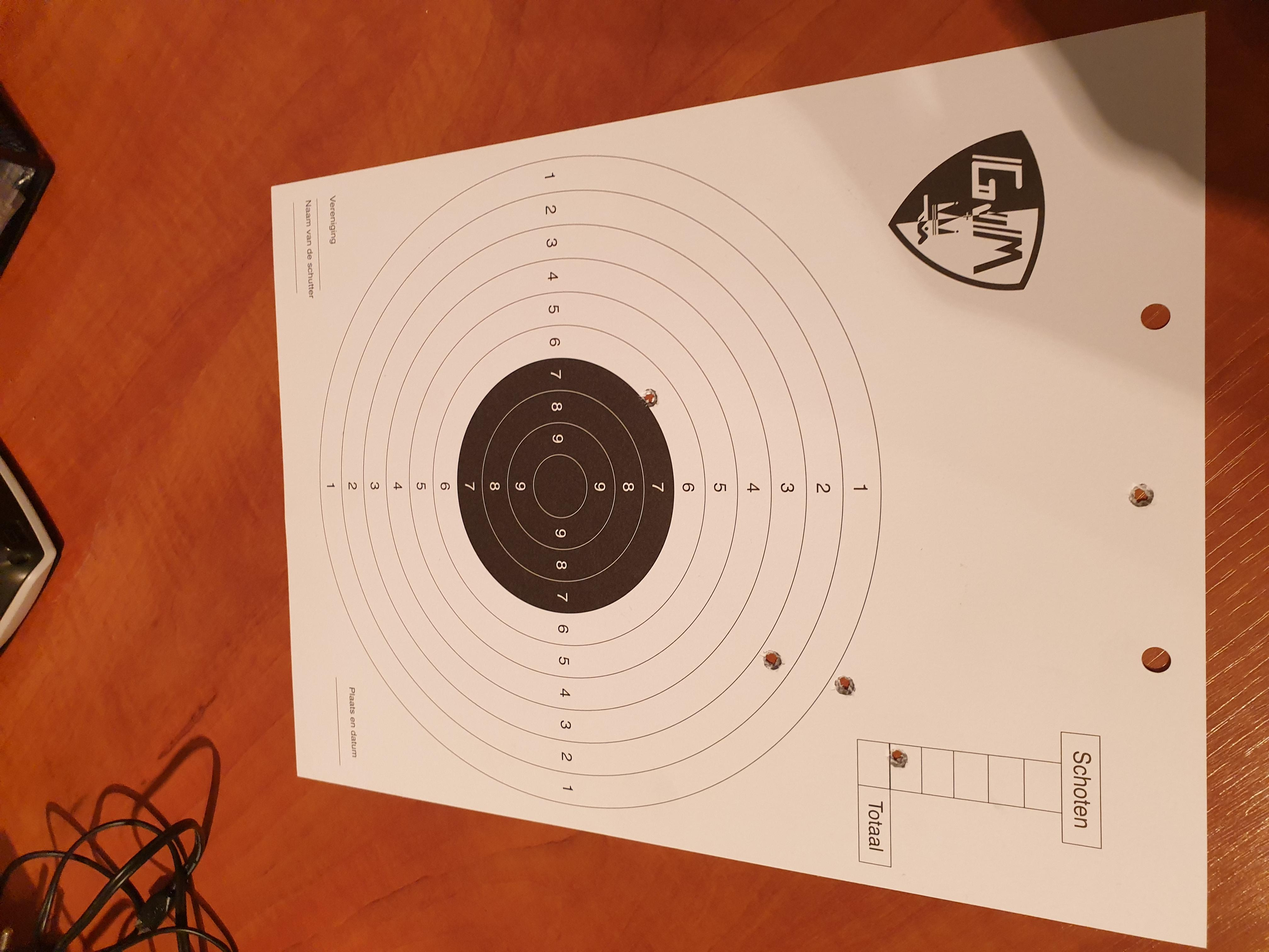hole: (591, 846, 628, 867), (374, 569, 406, 590), (240, 664, 274, 683), (339, 623, 370, 643), (722, 479, 754, 496)
